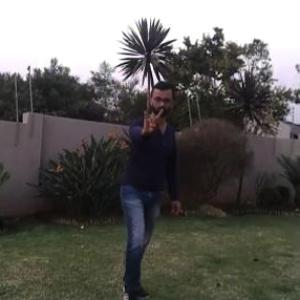takeoff-hand: (130, 103, 163, 136)
